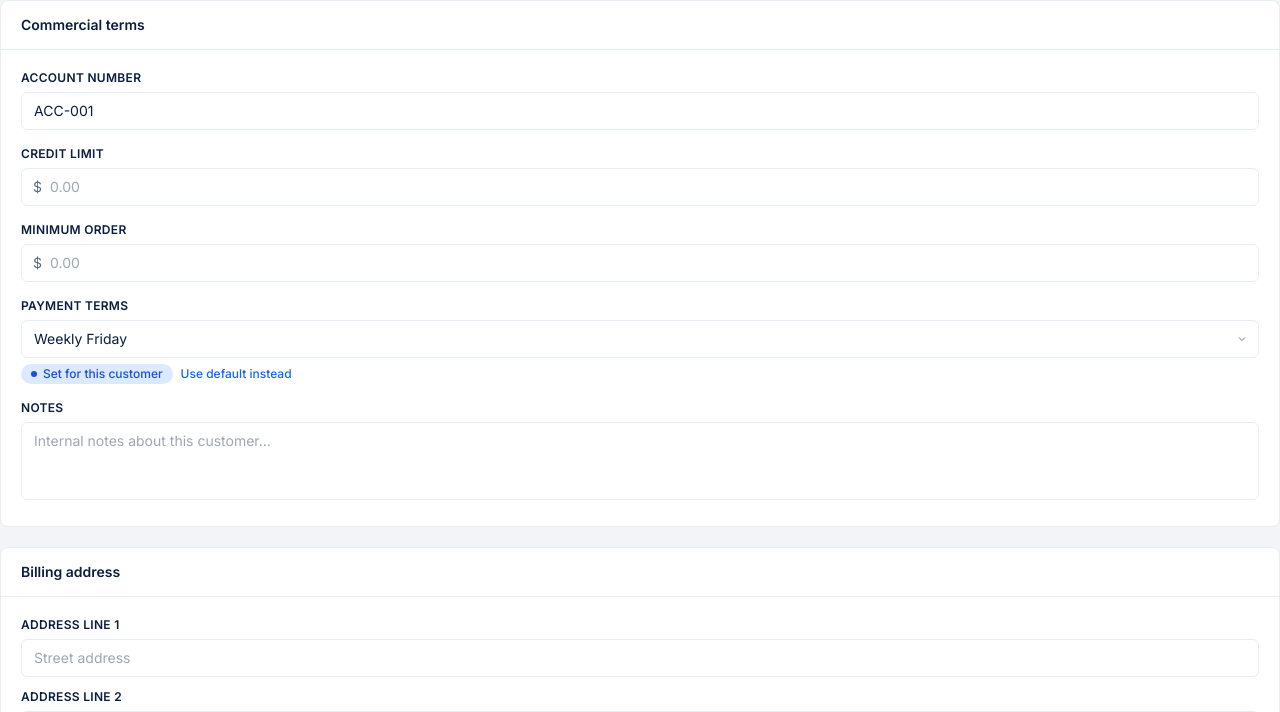
Test: AccountTab › payment terms › goes back to the default with "Use default instead" and saves null
The width and height of the screenshot is (1280, 712).
Check: the dropdown labelled "Payment terms" is enabled, box [21,320,1259,358]
Click the button "Use default instead": [236, 374] box [181,366,292,382]
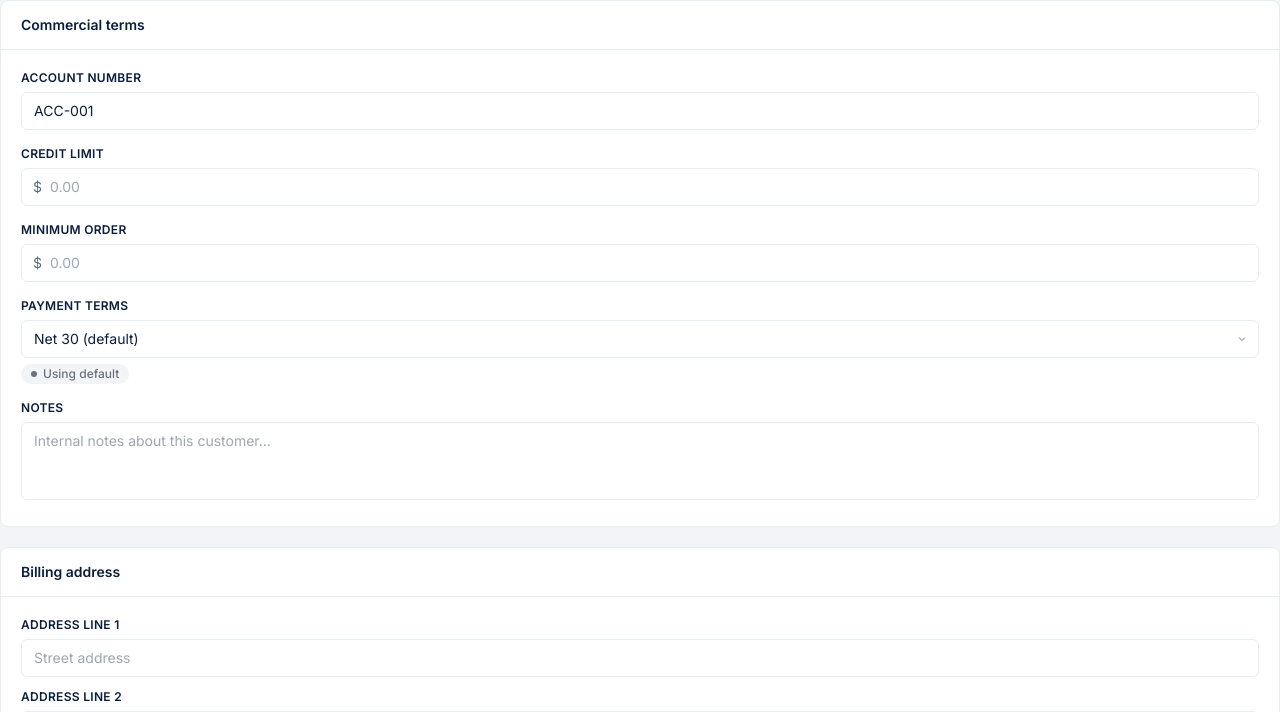
Check: the dropdown labelled "Payment terms" shows "Net 30 (default)", box [21,320,1259,358]
Check: the text "Using default" is shown, box [21,364,129,384]
